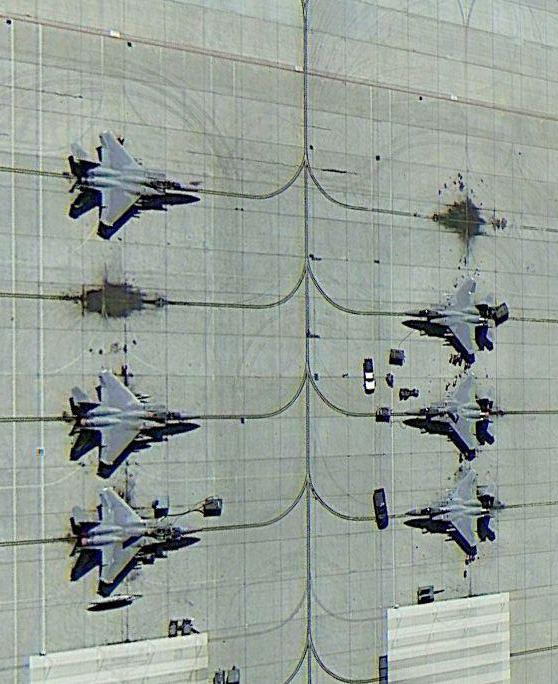F-15: (66, 487, 207, 593), (64, 371, 203, 473), (69, 131, 200, 230), (395, 373, 503, 458), (399, 469, 503, 554), (402, 279, 504, 360)
